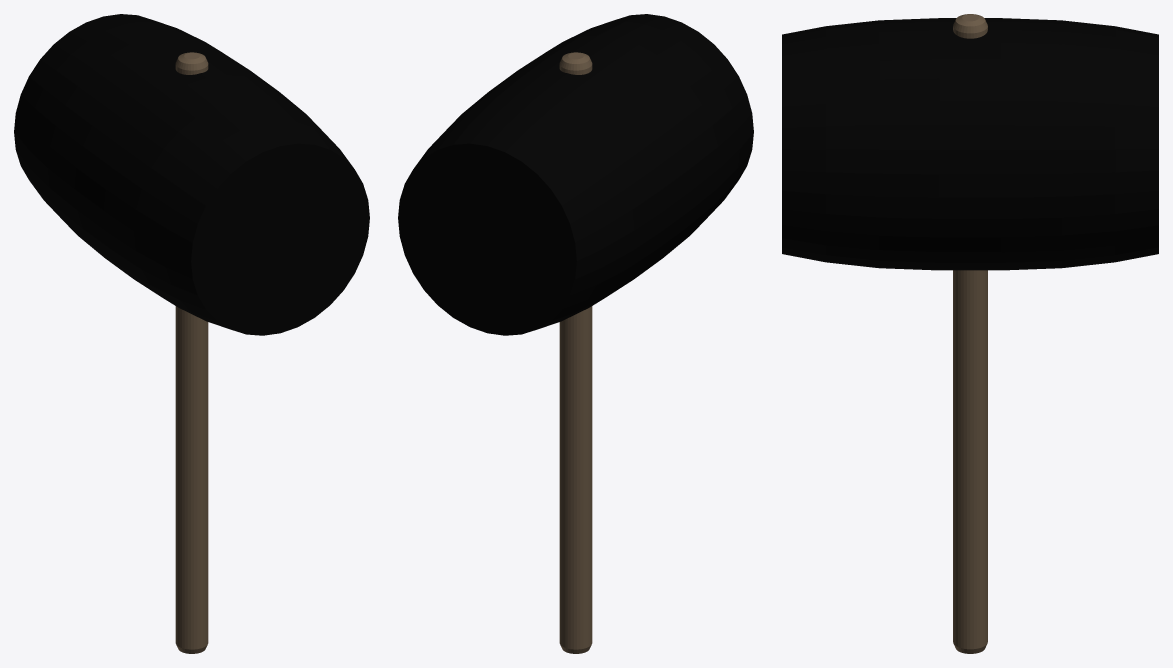
The model's file is hammer test.fbx.
3 renders of one model, left to right at view 1: azimuth 30°, elevation 25°; view 2: azimuth 150°, elevation 25°; view 3: azimuth 270°, elevation 25°, orthographic. The views are drawn at different scales.
Visible parts, largest first — view 1: Cylinder.001, Cylinder; view 2: Cylinder.001, Cylinder; view 3: Cylinder.001, Cylinder.
Boxes of the visible parts, x1=… form: Cylinder.001: x1=14, y1=14, x2=369, y2=335; Cylinder: x1=175, y1=52, x2=208, y2=653; Cylinder.001: x1=398, y1=14, x2=753, y2=335; Cylinder: x1=559, y1=52, x2=592, y2=653; Cylinder.001: x1=782, y1=18, x2=1158, y2=270; Cylinder: x1=953, y1=14, x2=987, y2=653.
Size of the model in its own units: 72.41 by 200 by 108.
